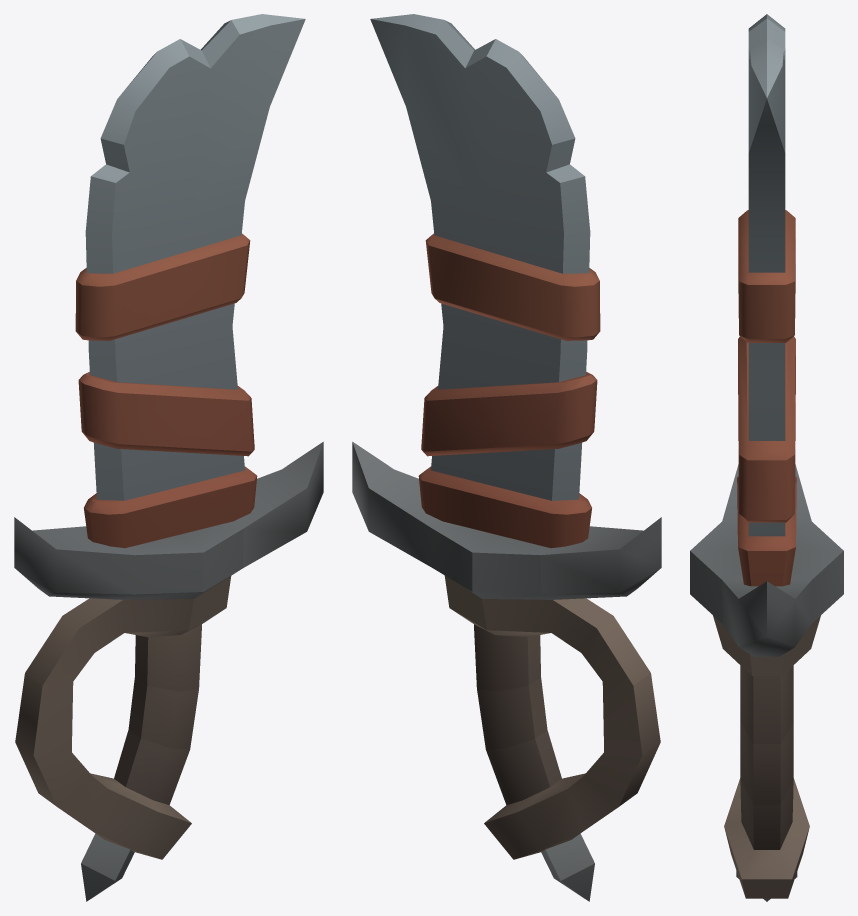
File: XS_Skeleton_Blade.glb
3 renders of one model, left to right at view 1: azimuth 30°, elevation 25°; view 2: azimuth 150°, elevation 25°; view 3: azimuth 270°, elevation 25°, orthographic. The views are drawn at different scales.
Parts seen in each view (by area): view 1: Skeleton_Blade; view 2: Skeleton_Blade; view 3: Skeleton_Blade.
Boxes of the visible parts, box(x1,y1,x2,y2) form: Skeleton_Blade: box(14, 14, 323, 901); Skeleton_Blade: box(352, 14, 661, 901); Skeleton_Blade: box(690, 14, 843, 901).
Bounding box in the file's own units: 0.5727 × 1.5 × 0.2222.
